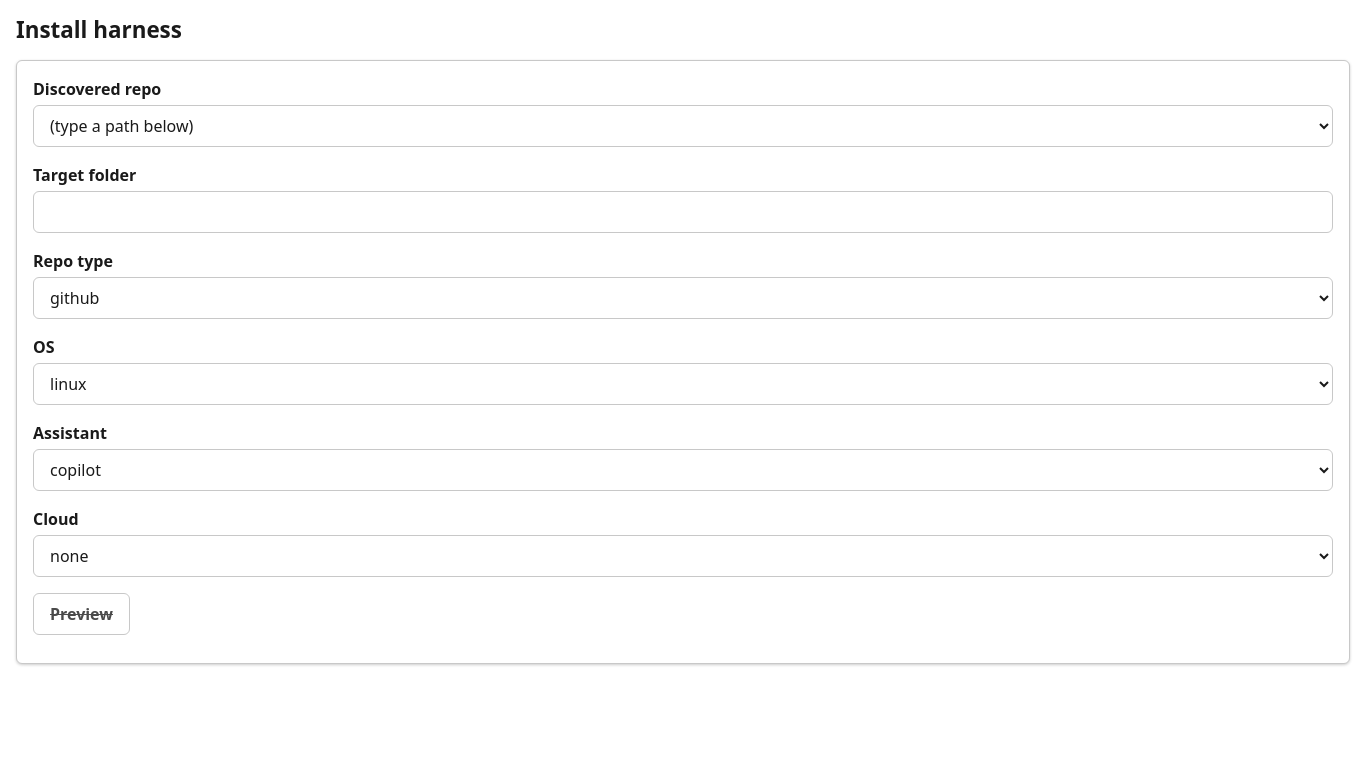
it: shows 422 from preview and offers no confirm
Type "/x" into the field labelled "Target folder". click: (683, 212)
box: [33,191,1333,233]
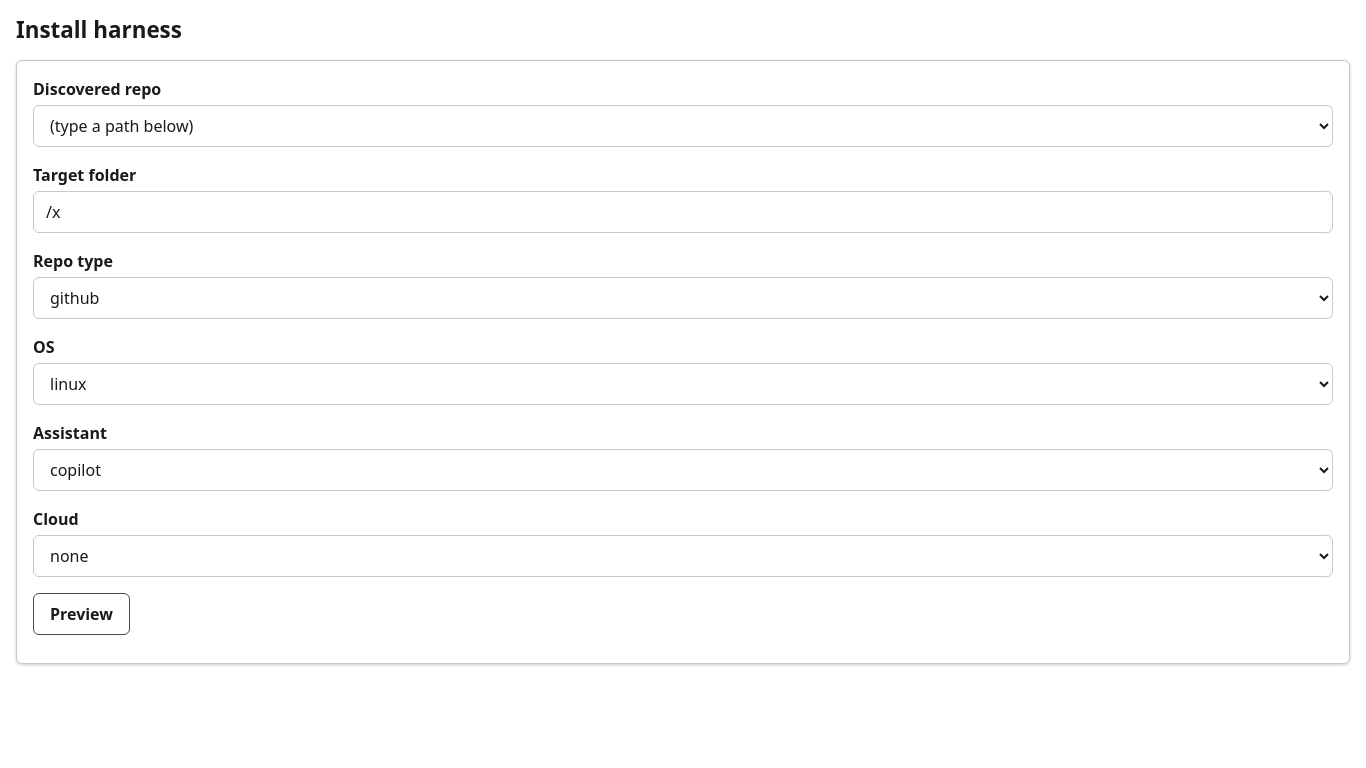
Click the button "Preview". click: click(82, 614)
box: [33,593,130,635]
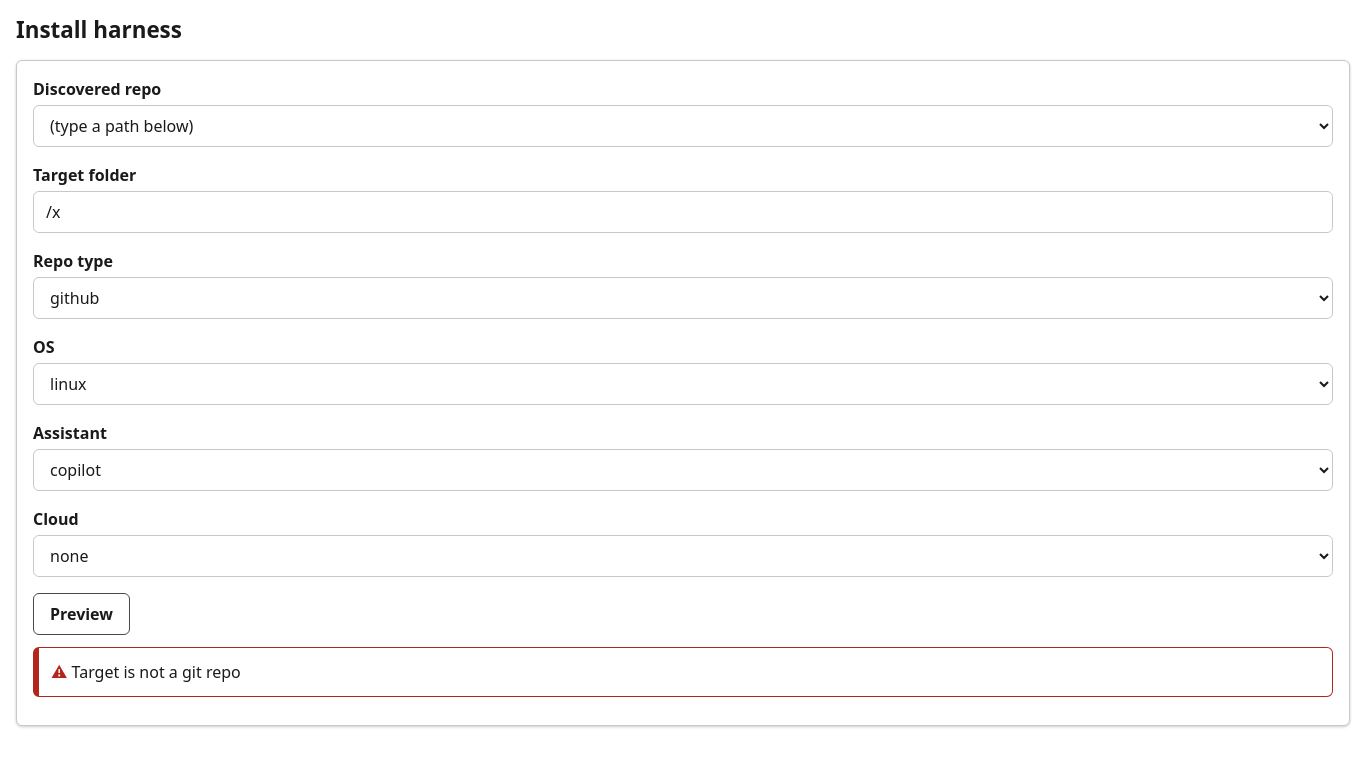
Check: the message reads "Target is not a git repo", box [72,661,241,683]
